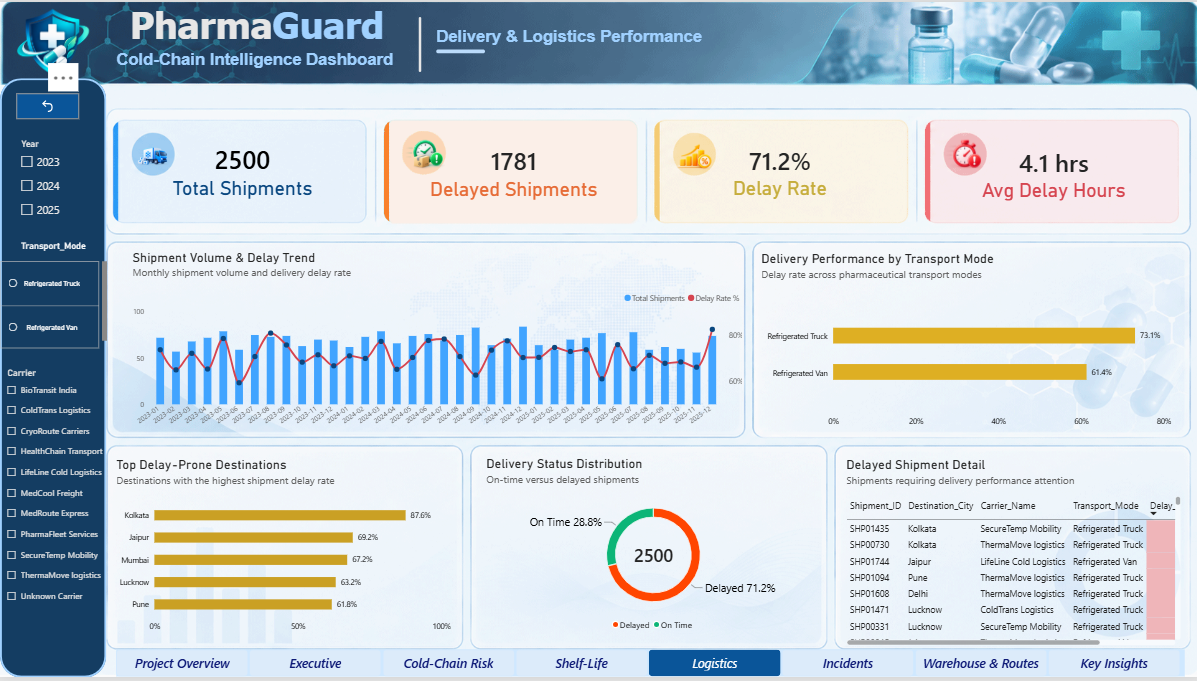

The dashboard page shown, as its layout file describes it:
{"tool":"powerbi","page":{"name":"Logistics","canvas":[1920,1080],"ordinal":4},"visuals":[{"type":"textbox","box":[207.8,0,510.7,75.7],"z":0},{"type":"textbox","box":[186.1,75.7,484.8,71.4],"z":1000},{"type":"shape","box":[582,24,180,88],"z":2000},{"type":"textbox","box":[150,597,300,300],"z":3000},{"type":"textbox","box":[698.5,39.8,459.7,39.8],"z":4000},{"type":"image","box":[0,6,168,114],"z":5000},{"type":"shape","box":[698,38,78,82],"z":6000},{"type":"shape","box":[0,121.2,170,958.8],"z":7000},{"type":"image","box":[215.6,221.2,53.8,46.2],"z":8000},{"type":"image","box":[1074.6,221.5,68.5,55.4],"z":9000},{"type":"image","box":[1500.8,218.5,76.2,56.2],"z":10000},{"type":"cardVisual","title":"Total Shipments","fields":{"Data":["_Measures.Delayed Shipments"]},"box":[622,193,400,158],"z":11000},{"type":"cardVisual","title":"Total Shipments","fields":{"Data":["_Measures.Delay Rate %"]},"box":[1046.2,193.1,404.7,158],"z":12000},{"type":"cardVisual","title":"Total Shipments","fields":{"Data":["_Measures.Avg Delay Hours - Delayed"]},"box":[1483.8,195.4,404.7,158],"z":13000},{"type":"slicer","fields":{"Values":["Dim_Date.Year"]},"box":[25.7,217.1,109.1,183.6],"z":14000},{"type":"lineClusteredColumnComboChart","title":"Shipment Volume & Delay Trend","fields":{"Category":["Dim_Date.Year_Month"],"Y":["_Measures.Total Shipments"],"Y2":["_Measures.Delay Rate %"]},"box":[195.7,381.4,1007.1,315.7],"z":15000},{"type":"clusteredBarChart","title":"Delivery Performance by Transport Mode","fields":{"Category":["Shipments.Transport_Mode"],"Y":["_Measures.Delay Rate %"]},"box":[1201.1,383.3,687.7,316.7],"z":16000},{"type":"clusteredBarChart","title":"Top Delay-Prone Destinations","fields":{"Category":["Routes.Destination_City"],"Y":["_Measures.Delay Rate %"]},"box":[171,714.2,567,313.8],"z":17000},{"type":"donutChart","title":"Delivery Status Distribution","fields":{"Category":["Shipments.Delivery_Status"],"Y":["Count(Shipments.Shipment_ID)"]},"box":[762.5,712.5,567,313.8],"z":18000},{"type":"image","box":[639.4,216.9,78.8,54.4],"z":19000},{"type":"cardVisual","title":"Total Shipments","fields":{"Data":["_Measures.Total Shipments"]},"box":[186,190,404,161],"z":20000},{"type":"tableEx","title":"Delayed Shipment Detail","fields":{"Values":["Shipments.Shipment_ID","Routes.Destination_City","Carriers.Carrier_Name","Shipments.Transport_Mode","Sum(Shipments.Delivery_Delay_Hours)","Shipments.Delivery_Status"]},"box":[1337.8,714.4,567,331.1],"z":21000},{"type":"advancedSlicerVisual","fields":{"Values":["Shipments.Transport_Mode"]},"box":[0,382.9,171,172],"z":22000},{"type":"slicer","fields":{"Values":["Carriers.Carrier_Name"]},"box":[4.3,584.3,161.4,391.4],"z":23000},{"type":"pageNavigator","box":[186.1,1036.6,1709.7,43.3],"z":24000},{"type":"actionButton","box":[25,146.7,100.6,40.8],"z":25000}]}

Visuals, with their boxes on the page's 1920x1080 design canvas (x1, y1, x2, y2). These are canvas units, not pixel positions in the 1197x681 screenshot, which may show the page scaled, cropped or inside an application window:
textbox: <region>208, 0, 718, 76</region>
textbox: <region>186, 76, 671, 147</region>
shape: <region>582, 24, 762, 112</region>
textbox: <region>150, 597, 450, 897</region>
textbox: <region>698, 40, 1158, 80</region>
image: <region>0, 6, 168, 120</region>
shape: <region>698, 38, 776, 120</region>
shape: <region>0, 121, 170, 1080</region>
image: <region>216, 221, 269, 267</region>
image: <region>1075, 222, 1143, 277</region>
image: <region>1501, 218, 1577, 275</region>
"Total Shipments" cardVisual: <region>622, 193, 1022, 351</region>
"Total Shipments" cardVisual: <region>1046, 193, 1451, 351</region>
"Total Shipments" cardVisual: <region>1484, 195, 1888, 353</region>
slicer - Dim_Date.Year: <region>26, 217, 135, 401</region>
"Shipment Volume & Delay Trend" lineClusteredColumnComboChart: <region>196, 381, 1203, 697</region>
"Delivery Performance by Transport Mode" clusteredBarChart: <region>1201, 383, 1889, 700</region>
"Top Delay-Prone Destinations" clusteredBarChart: <region>171, 714, 738, 1028</region>
"Delivery Status Distribution" donutChart: <region>762, 712, 1330, 1026</region>
image: <region>639, 217, 718, 271</region>
"Total Shipments" cardVisual: <region>186, 190, 590, 351</region>
"Delayed Shipment Detail" tableEx: <region>1338, 714, 1905, 1046</region>
advancedSlicerVisual - Shipments.Transport_Mode: <region>0, 383, 171, 555</region>
slicer - Carriers.Carrier_Name: <region>4, 584, 166, 976</region>
pageNavigator: <region>186, 1037, 1896, 1080</region>
actionButton: <region>25, 147, 126, 188</region>
